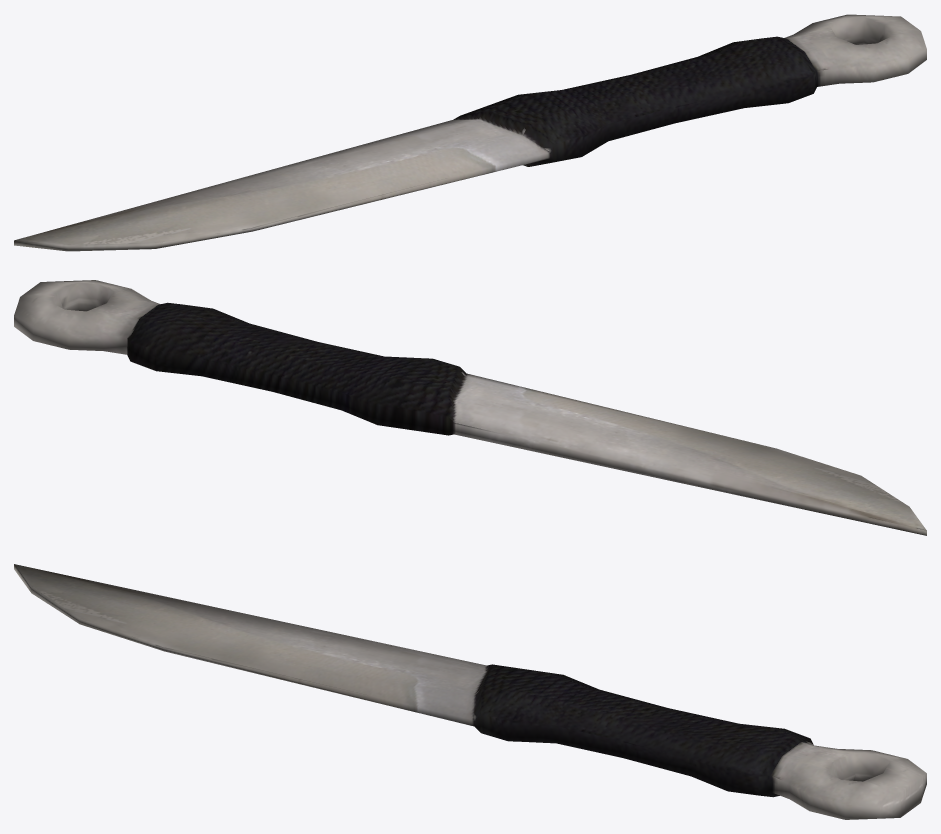
File: throwing-knife.fbx
The picture shows the model from 3 angles, top to bottom: view 1: azimuth 30°, elevation 25°; view 2: azimuth 150°, elevation 25°; view 3: azimuth 330°, elevation 25°; orthographic projection. The views are drawn at different scales.
Visible parts, largest first — view 1: Cube.001; view 2: Cube.001; view 3: Cube.001.
Part boxes in pixels (bbox=[...]): Cube.001: bbox=[14, 14, 926, 251]; Cube.001: bbox=[14, 280, 926, 535]; Cube.001: bbox=[14, 564, 926, 819].
Bounding box in the file's own units: 1844 × 93.32 × 231.
